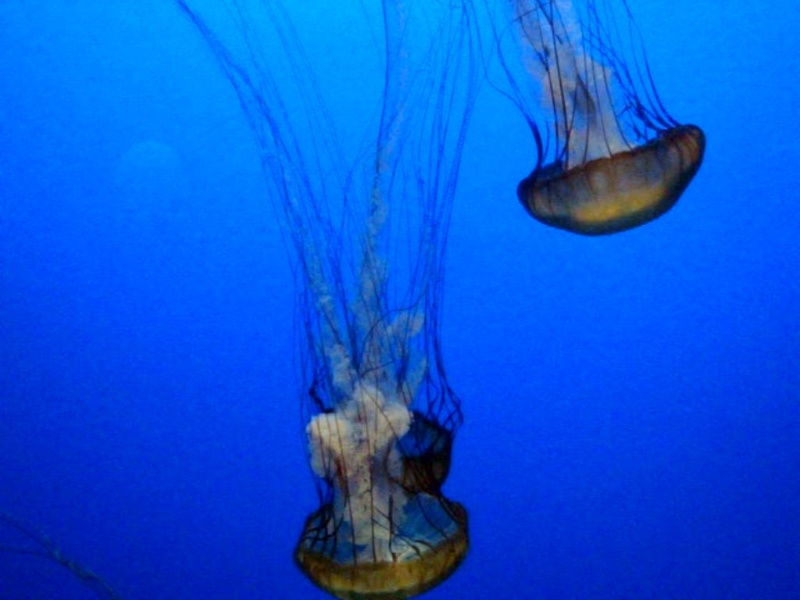Jellyfish: (169, 0, 505, 598), (469, 0, 705, 237)
